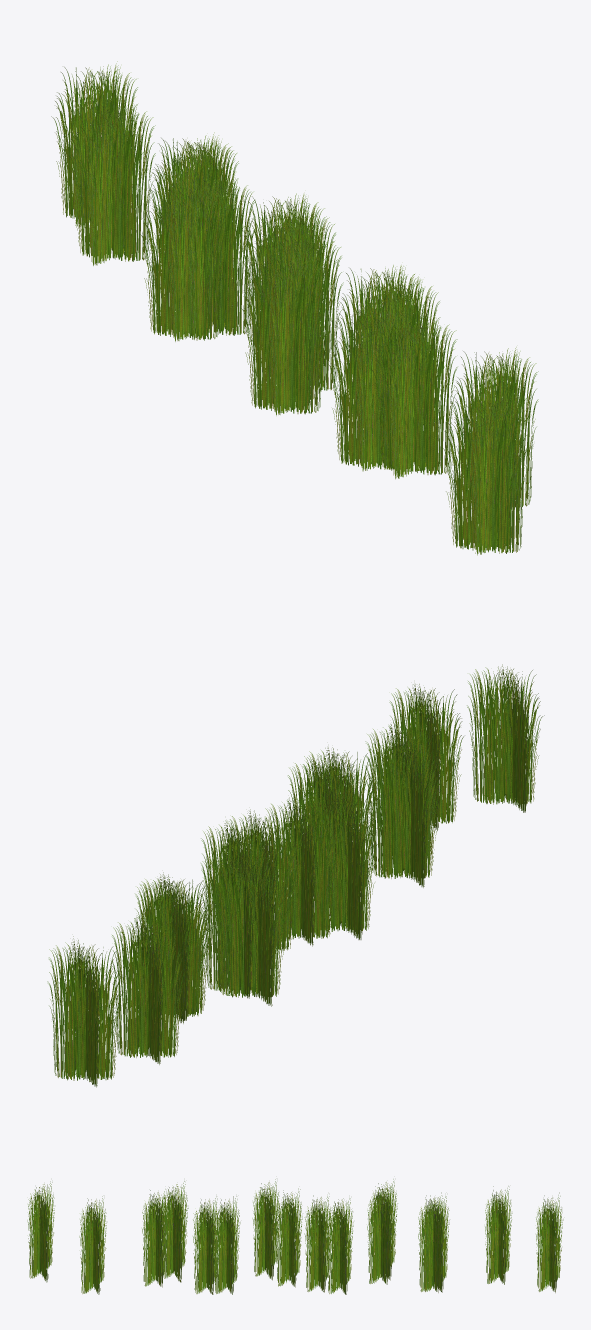
Rendered from BladeGrass.FBX.
3 views of the same model, one above another, from view 1: azimuth 30°, elevation 25°; view 2: azimuth 150°, elevation 25°; view 3: azimuth 270°, elevation 25° (orthographic). The views are drawn at different scales.
Parts seen in each view (by area): view 1: bladejunt; view 2: bladejunt; view 3: bladejunt.
Part boxes in pixels (x1,y1,x2,y2): bladejunt: [51, 61, 538, 555]; bladejunt: [47, 664, 544, 1087]; bladejunt: [27, 1179, 563, 1294].
Bounding box in the file's own units: 14.91 × 14.82 × 66.67.
